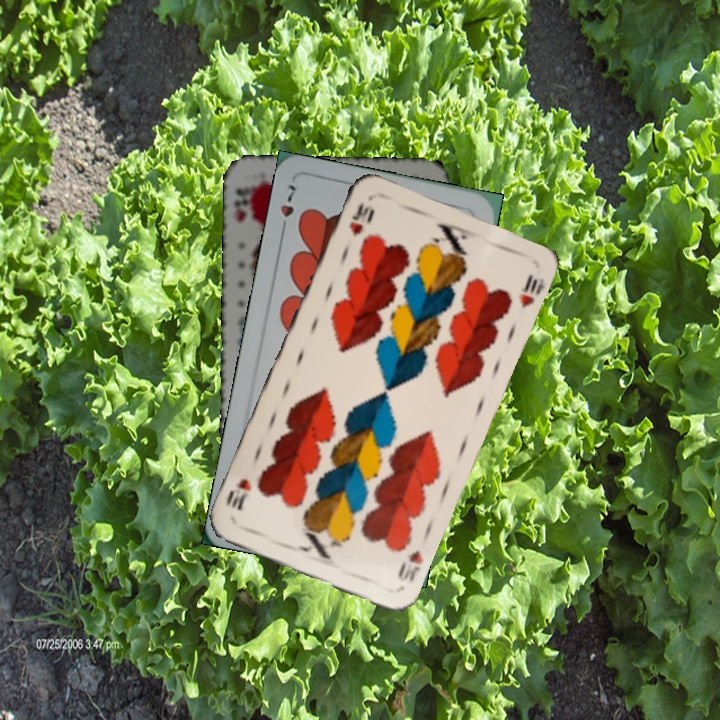H10: (394, 546, 426, 584), (345, 200, 375, 239)
H7: (276, 180, 299, 237)
HK: (230, 183, 257, 226)
